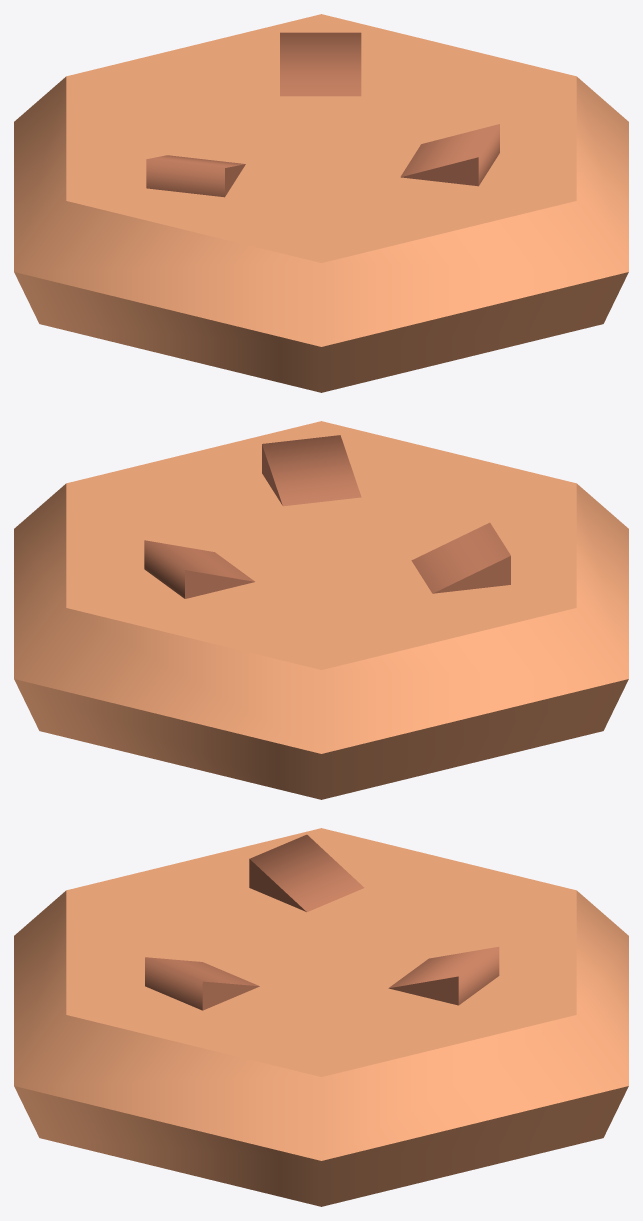
The model's file is cookie.dae.
The picture shows the model from 3 angles, top to bottom: view 1: azimuth 30°, elevation 25°; view 2: azimuth 150°, elevation 25°; view 3: azimuth 270°, elevation 25°; orthographic projection.
Visible parts, largest first — view 1: cookie; view 2: cookie; view 3: cookie.
Part boxes in pixels (<box>): cookie: <box>14,14,628,392</box>; cookie: <box>14,421,628,799</box>; cookie: <box>14,828,628,1206</box>.
Bounding box in the file's own units: 0.2197 × 0.0498 × 0.1903.
